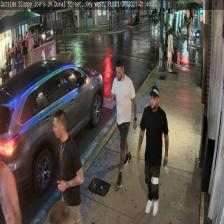person: (136, 85, 168, 216), (52, 109, 84, 224), (108, 60, 135, 187)
